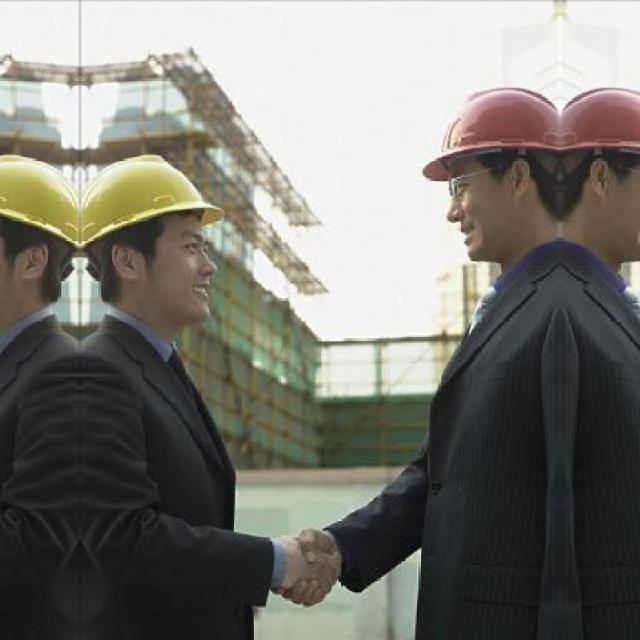hat: (77, 150, 228, 273), (409, 79, 565, 196)
